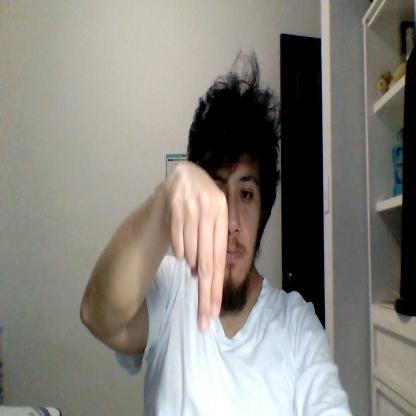N: (171, 162, 228, 334)
